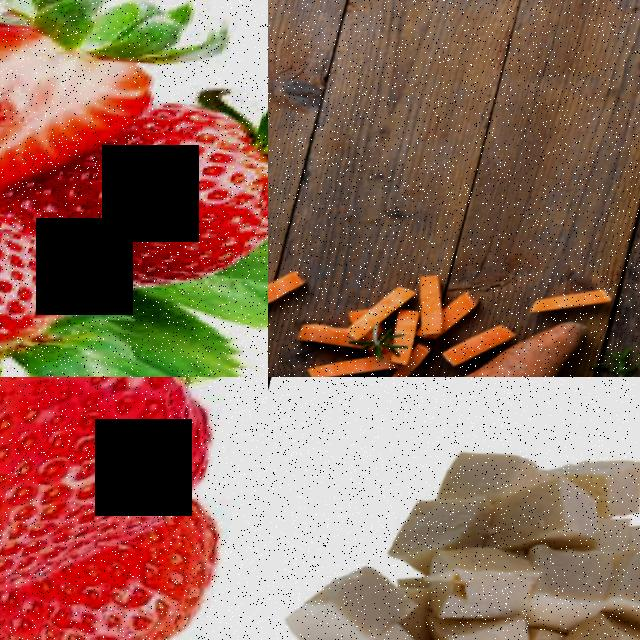strawberry: (0, 377, 250, 538), (102, 92, 268, 313), (0, 0, 182, 152), (0, 185, 78, 377), (0, 574, 220, 640)
sweet potato: (503, 320, 602, 377)
tofu: (287, 557, 426, 640), (429, 542, 553, 632), (487, 472, 613, 559), (407, 488, 500, 562), (426, 612, 547, 640), (595, 458, 640, 521), (611, 544, 640, 636)
